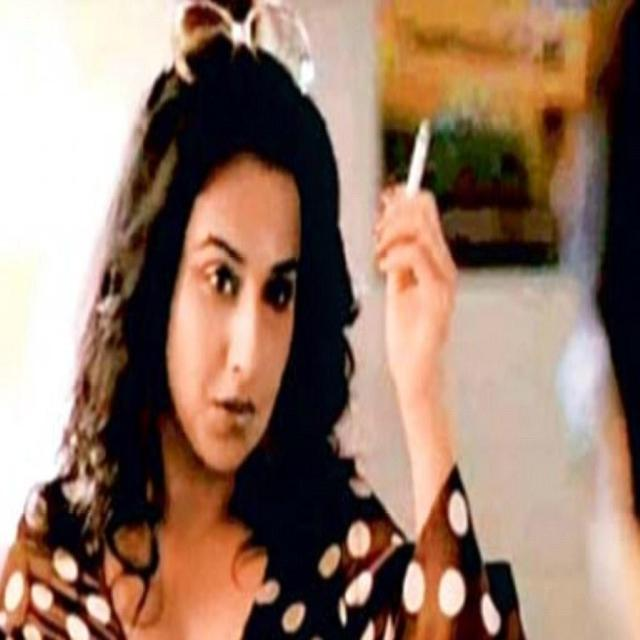smoking: (75, 112, 462, 565)
